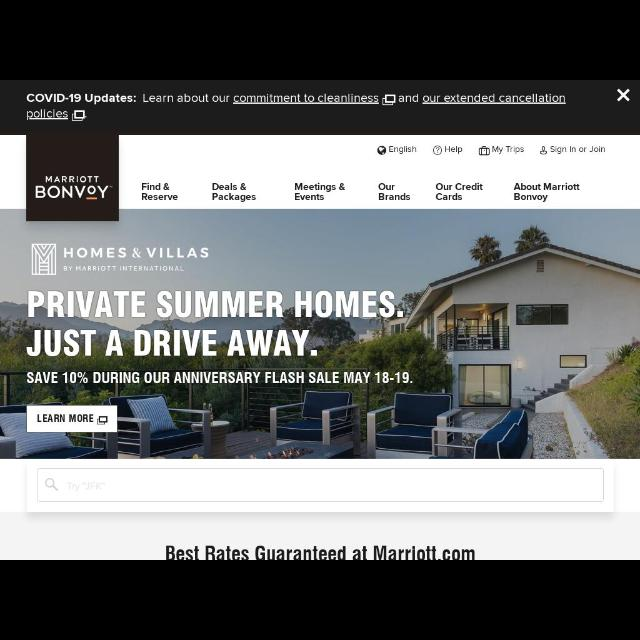backgroundimage: (1, 210, 640, 458)
icon: (616, 88, 630, 102), (45, 478, 59, 492), (96, 416, 108, 424), (480, 146, 490, 154), (378, 146, 387, 154), (433, 146, 442, 154), (540, 146, 548, 154)
iframe: (1, 81, 639, 135)
image: (32, 244, 208, 276), (36, 174, 114, 202)
input: (37, 468, 605, 502)
panel: (26, 135, 119, 221)
text: (28, 290, 404, 318), (26, 329, 318, 356), (26, 94, 566, 105), (26, 372, 414, 384), (166, 545, 474, 559), (514, 182, 580, 202), (294, 182, 346, 200), (212, 182, 256, 202), (436, 183, 484, 200), (27, 109, 88, 121), (142, 182, 178, 200), (379, 183, 411, 201), (38, 413, 94, 422), (550, 146, 606, 154), (67, 482, 105, 492), (492, 146, 524, 154), (389, 146, 416, 154), (445, 146, 463, 154)
textbutton: (27, 406, 118, 432)
toolbar: (1, 135, 640, 207)
